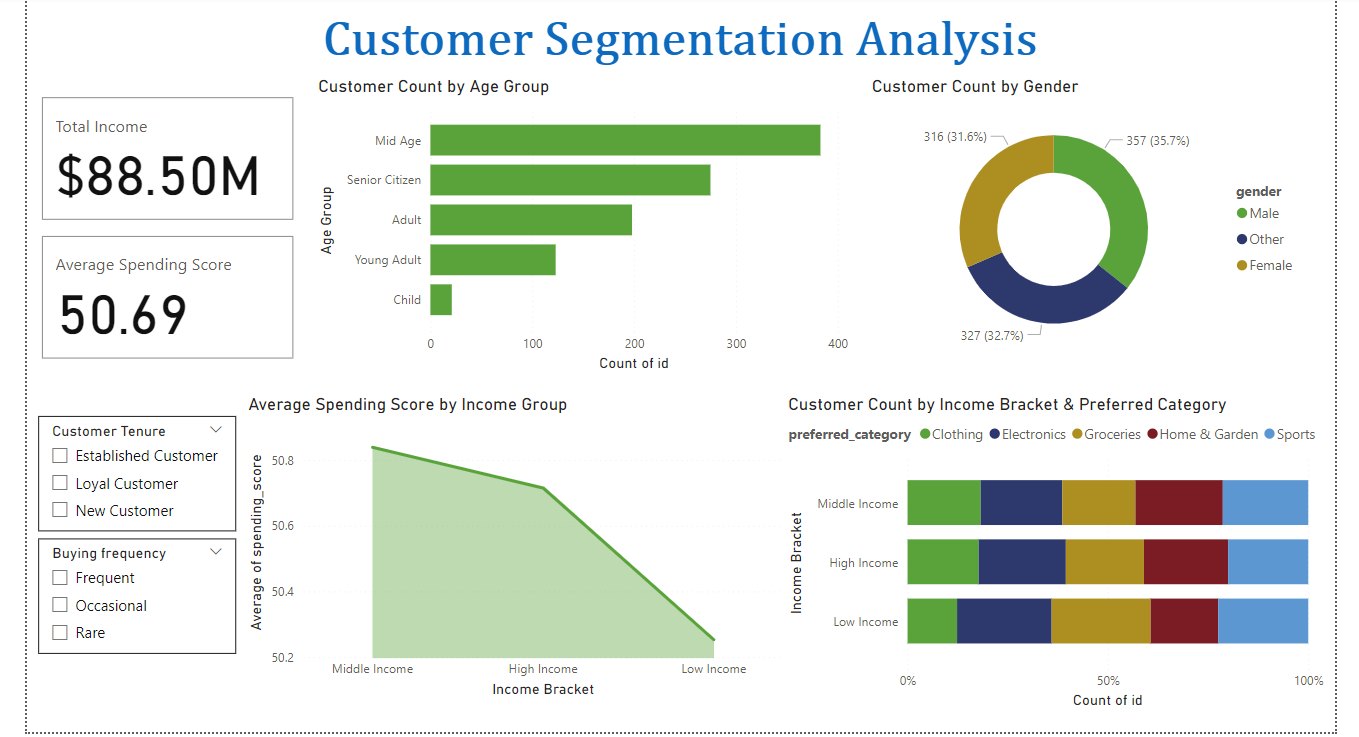

Layout of this report page (visuals, bound fields, positions):
{"tool":"powerbi","page":{"name":"Dashboard","canvas":[1280,720],"ordinal":0},"visuals":[{"type":"barChart","title":"Customer Count by Age Group","fields":{"Category":["Dataset.Age Group"],"Y":["CountNonNull(Dataset.id)"]},"box":[279.9,78.2,528.3,293.7],"z":0},{"type":"cardVisual","fields":{"Data":["Dataset.Total Income"]},"box":[9.6,93.7,256.6,130.4],"z":0,"group":"g1"},{"type":"donutChart","title":"Customer Count by Gender","fields":{"Category":["Dataset.gender"],"Y":["CountNonNull(Dataset.id)"]},"box":[822,78.2,430.9,281.3],"z":1000},{"type":"cardVisual","fields":{"Data":["Dataset.Average Spending Score"]},"box":[9.6,229.5,256.6,130.4],"z":1000,"group":"g1"},{"type":"areaChart","title":"Average Spending Score by Income Group","fields":{"Category":["Dataset.Income Bracket"],"Y":["Avg(Dataset.spending_score)"]},"box":[211.3,388.3,532.4,301.9],"z":2000},{"type":"textbox","box":[171.5,11,935.9,72.7],"z":3000},{"type":"hundredPercentStackedBarChart","title":"Customer Count by Income Bracket & Preferred Category","fields":{"Series":["Dataset.preferred_category"],"Category":["Dataset.Income Bracket"],"Y":["CountNonNull(Dataset.id)"]},"box":[739.6,388.3,533.8,312.9],"z":4000},{"type":"group","id":"g1","title":"Group 1","box":[9.6,93.7,256.6,266.2],"z":5000},{"type":"slicer","fields":{"Values":["Dataset.Customer Tenure"]},"box":[11,410.3,193.5,112.5],"z":6000,"group":"g2"},{"type":"group","id":"g2","title":"Group 2","box":[11,410.3,193.5,231.9],"z":7000},{"type":"slicer","fields":{"Values":["Dataset.Buying frequency"]},"box":[11,529.7,193.5,112.5],"z":7000,"group":"g2"}]}

Visuals, with their boxes on the page's 1280x720 design canvas (x1, y1, x2, y2). These are canvas units, not pixel positions in the 1359x737 screenshot, which may show the page scaled, cropped or inside an application window:
"Customer Count by Age Group" barChart: region(280, 78, 808, 372)
cardVisual - Dataset.Total Income: region(10, 94, 266, 224)
"Customer Count by Gender" donutChart: region(822, 78, 1253, 360)
cardVisual - Dataset.Average Spending Score: region(10, 230, 266, 360)
"Average Spending Score by Income Group" areaChart: region(211, 388, 744, 690)
textbox: region(172, 11, 1107, 84)
"Customer Count by Income Bracket & Preferred Category" hundredPercentStackedBarChart: region(740, 388, 1273, 701)
"Group 1" group: region(10, 94, 266, 360)
slicer - Dataset.Customer Tenure: region(11, 410, 204, 523)
"Group 2" group: region(11, 410, 204, 642)
slicer - Dataset.Buying frequency: region(11, 530, 204, 642)
